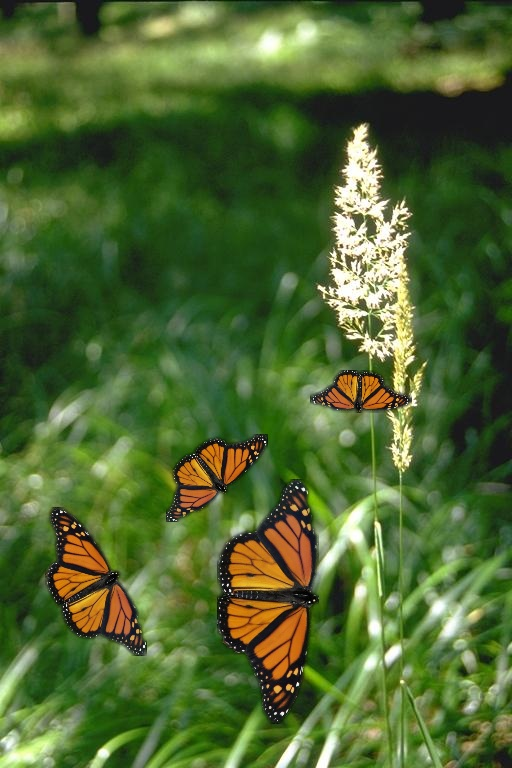danaus_plexippus: (217, 479, 319, 724), (45, 507, 147, 656), (166, 434, 268, 522), (310, 370, 412, 413)
